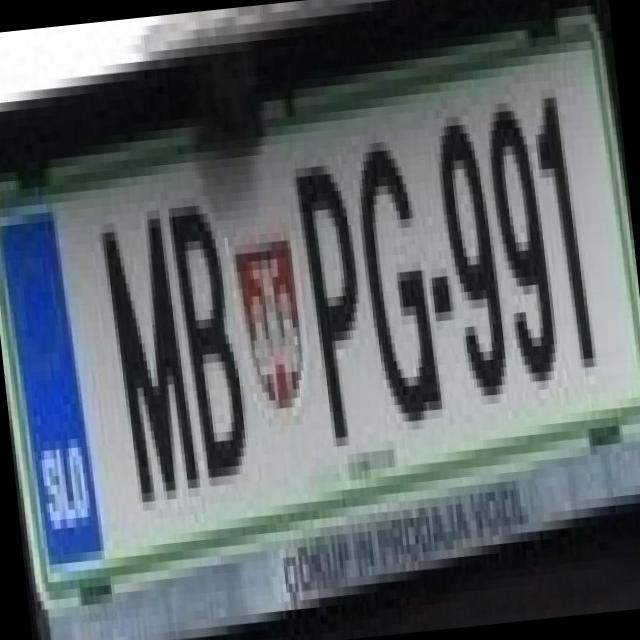1: (522, 59, 612, 370)
9: (418, 85, 528, 398), (470, 82, 560, 384)
B: (160, 185, 256, 488)
G: (339, 112, 446, 424)
M: (84, 182, 198, 496)
P: (284, 144, 378, 440)
